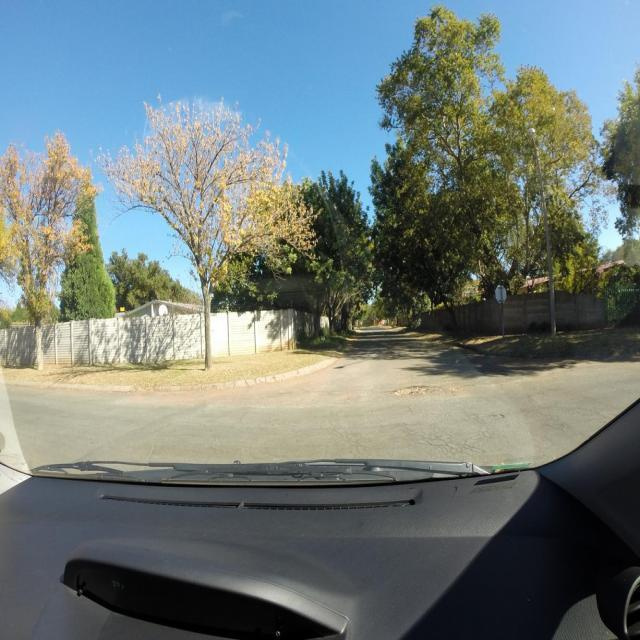Buraco: (388, 384, 446, 399)
